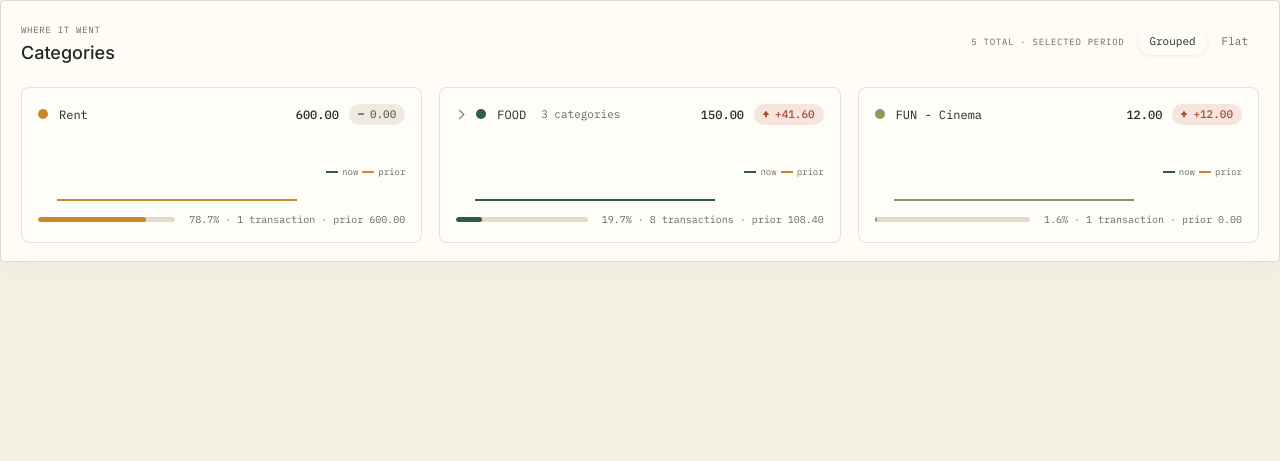
it: CategoryPanel grouping › switches to a flat list with every full category name
Click the button "Flat": [1235, 41] box [1211, 27, 1259, 55]
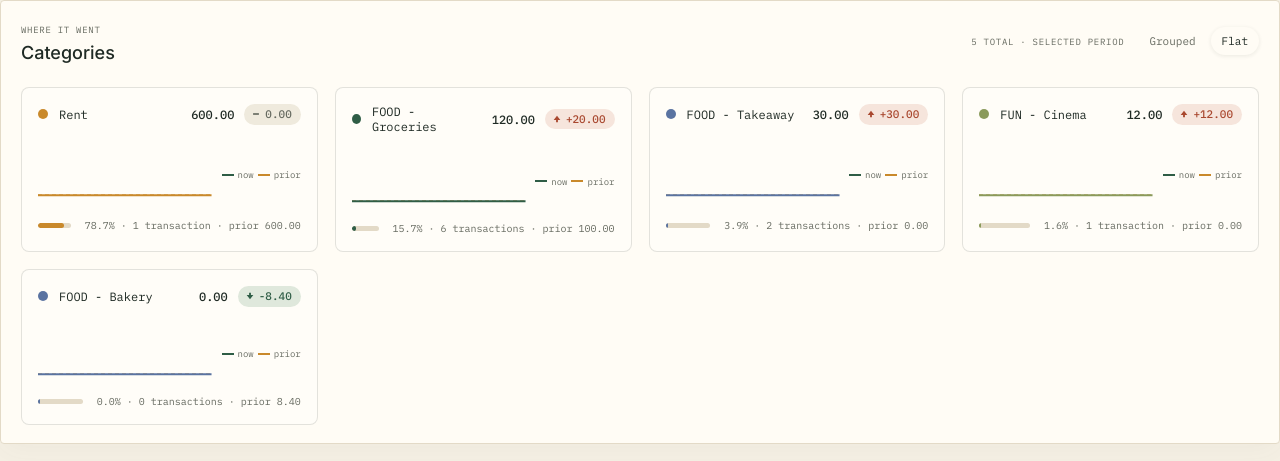
Expected: the button with class "category-group-toggle" is gone
Expected: the text "FOOD - Groceries" is shown, [352, 104, 437, 134]
Expected: the text "FOOD - Takeaway" is shown, [666, 107, 794, 122]
